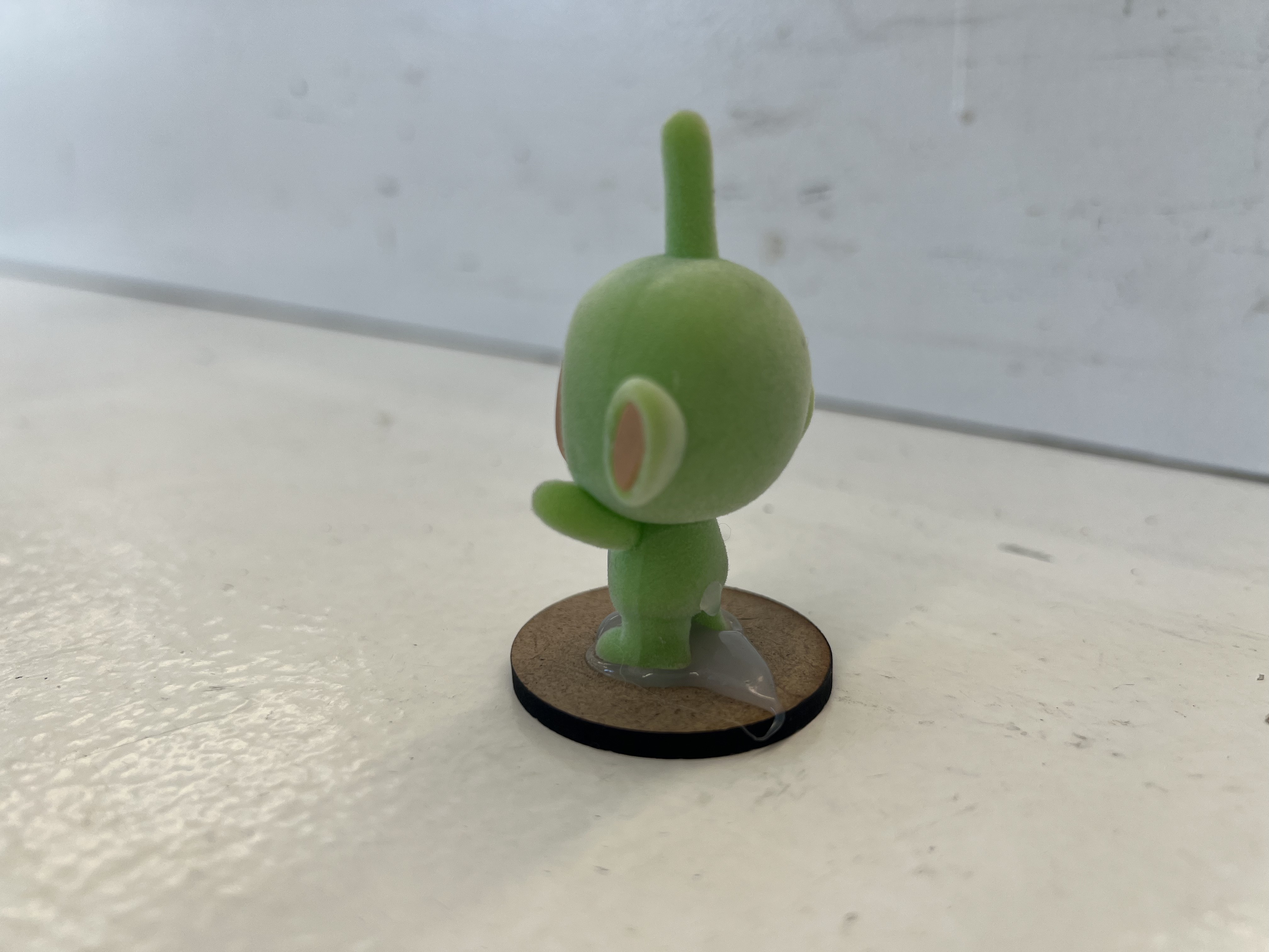teletubby: (532, 112, 814, 669)
